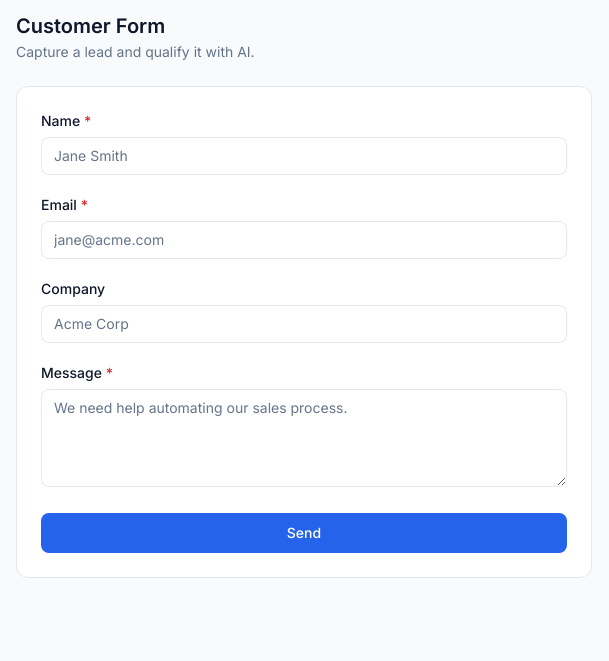
Test case: NewLead form validation › clears a field error once corrected
This screenshot has width=609, height=661.
Click the button "Send" at (304, 533), box [41,513,567,553]
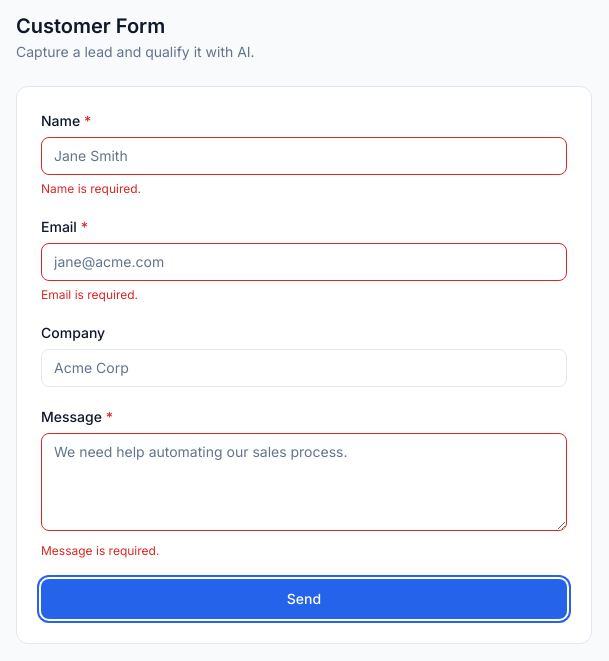
Check: the text "Name is required." is shown, box [41,181,141,196]
Type "John Smith" into the field labelled "Name *" at (304, 156), box [41,137,567,175]
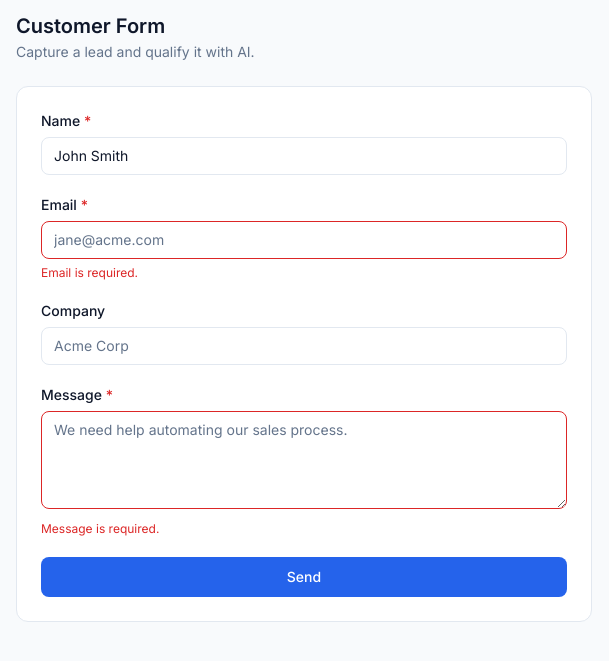
Check: the text "Name is required." is gone
